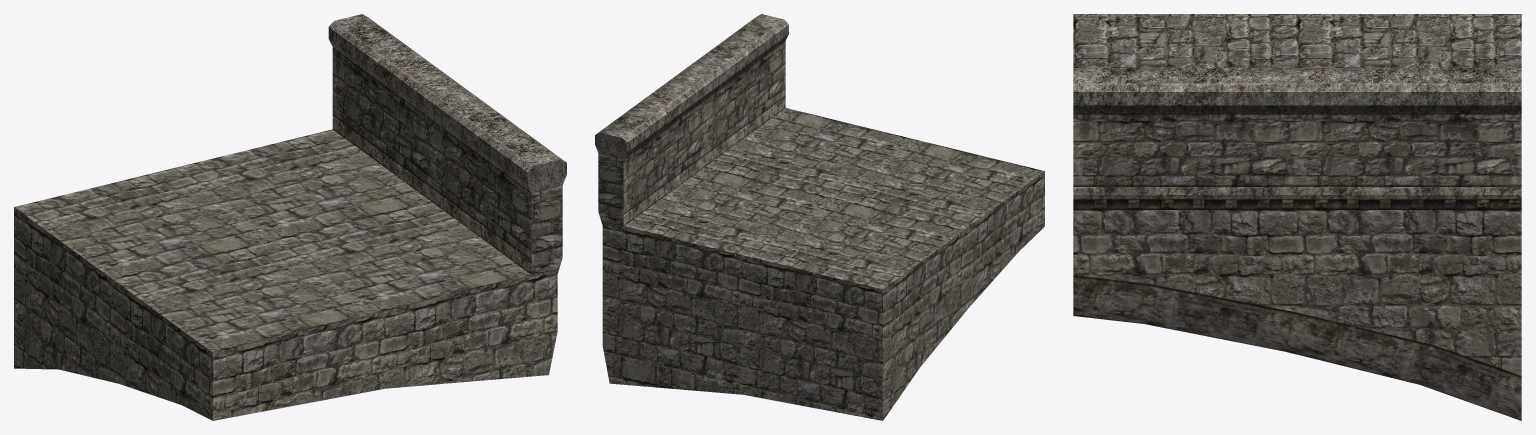
Rendered from StoneBridge_BracingDoubleRight.dae.
3 renders of one model, left to right at view 1: azimuth 30°, elevation 25°; view 2: azimuth 150°, elevation 25°; view 3: azimuth 270°, elevation 25°, orthographic. The views are drawn at different scales.
Visible parts, largest first — view 1: BracingDoubleRightT, BracingDoubleRightW; view 2: BracingDoubleRightT, BracingDoubleRightW; view 3: BracingDoubleRightW, BracingDoubleRightT.
Part boxes in pixels (x1=…): BracingDoubleRightT: x1=14, y1=129, x2=557, y2=420; BracingDoubleRightW: x1=328, y1=14, x2=566, y2=274; BracingDoubleRightT: x1=602, y1=108, x2=1044, y2=420; BracingDoubleRightW: x1=595, y1=14, x2=788, y2=226; BracingDoubleRightW: x1=1073, y1=68, x2=1521, y2=420; BracingDoubleRightT: x1=1073, y1=14, x2=1521, y2=375.
Bounding box in the file's own units: 4.11 × 3.39 × 4.
